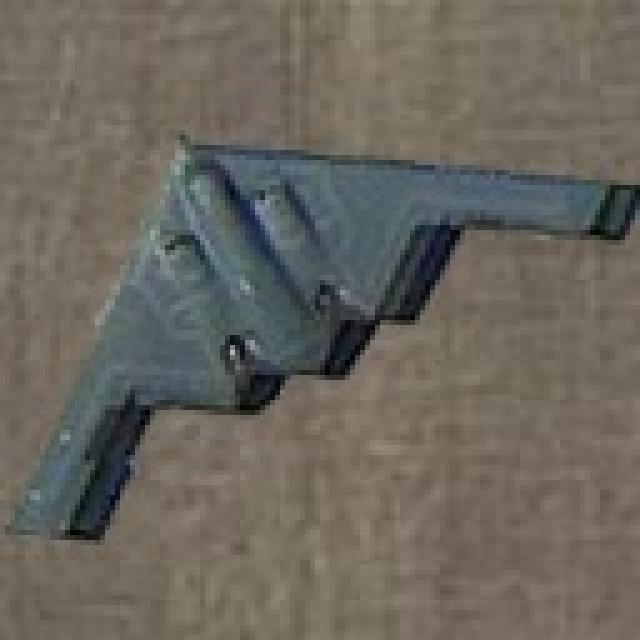B-2_TopDown: (5, 125, 635, 545)
